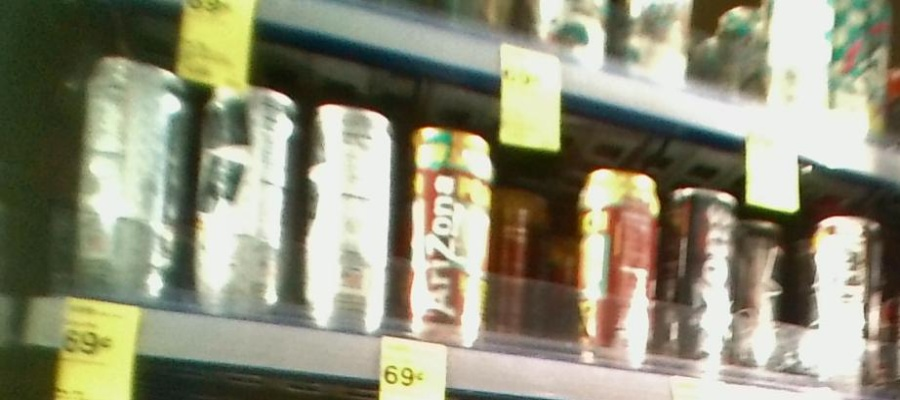bottle: (67, 49, 189, 302), (195, 80, 302, 321), (402, 119, 498, 345), (306, 90, 394, 331), (572, 166, 664, 356), (667, 176, 737, 363), (810, 213, 884, 388)
